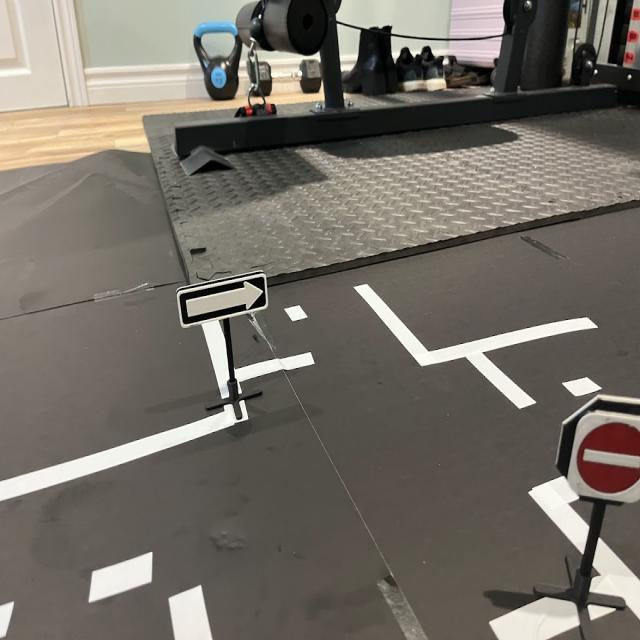sign_noentry: (565, 410, 640, 510)
sign_oneway_right: (176, 267, 272, 329)
